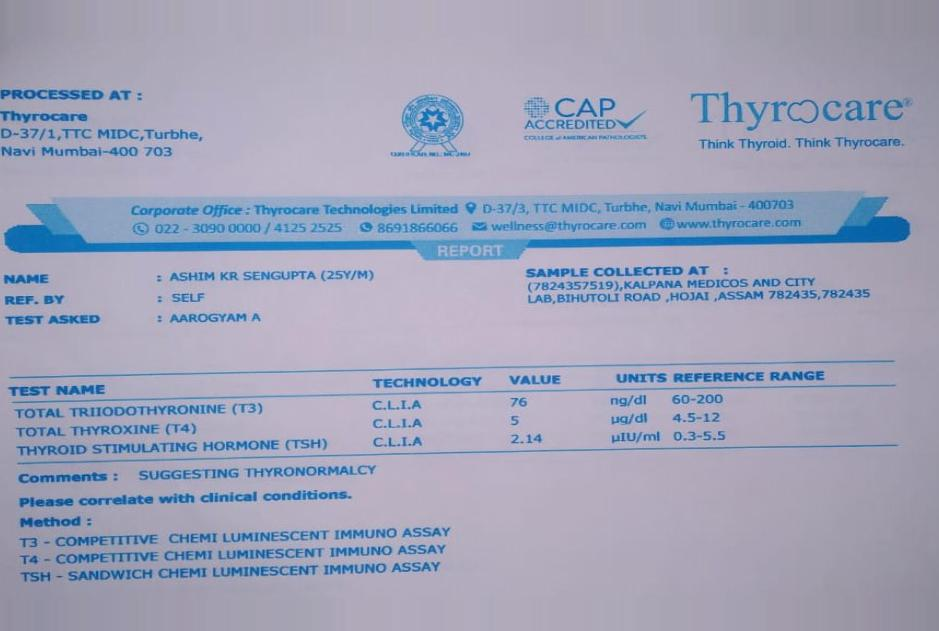Reference Range: (667, 390, 730, 446)
Test Name: (9, 397, 333, 461)
Units: (606, 389, 667, 449)
Value: (503, 390, 552, 448)
